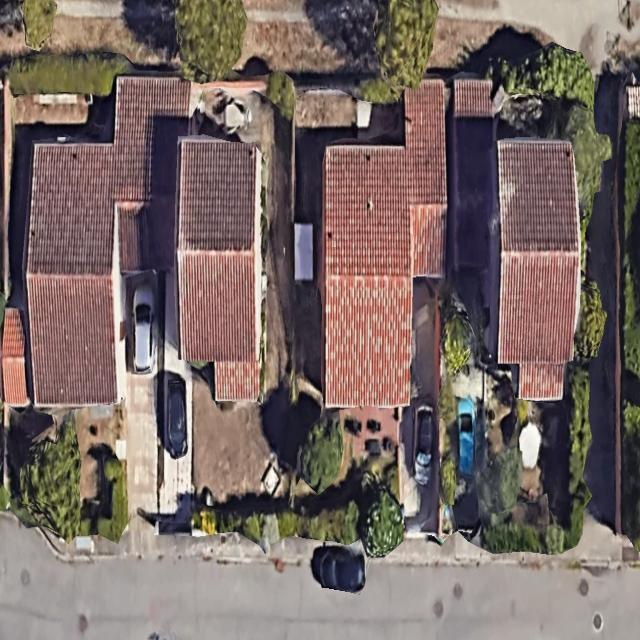maison: (322, 78, 447, 407), (22, 143, 125, 405), (489, 138, 585, 378), (176, 136, 261, 399), (108, 76, 190, 265)
